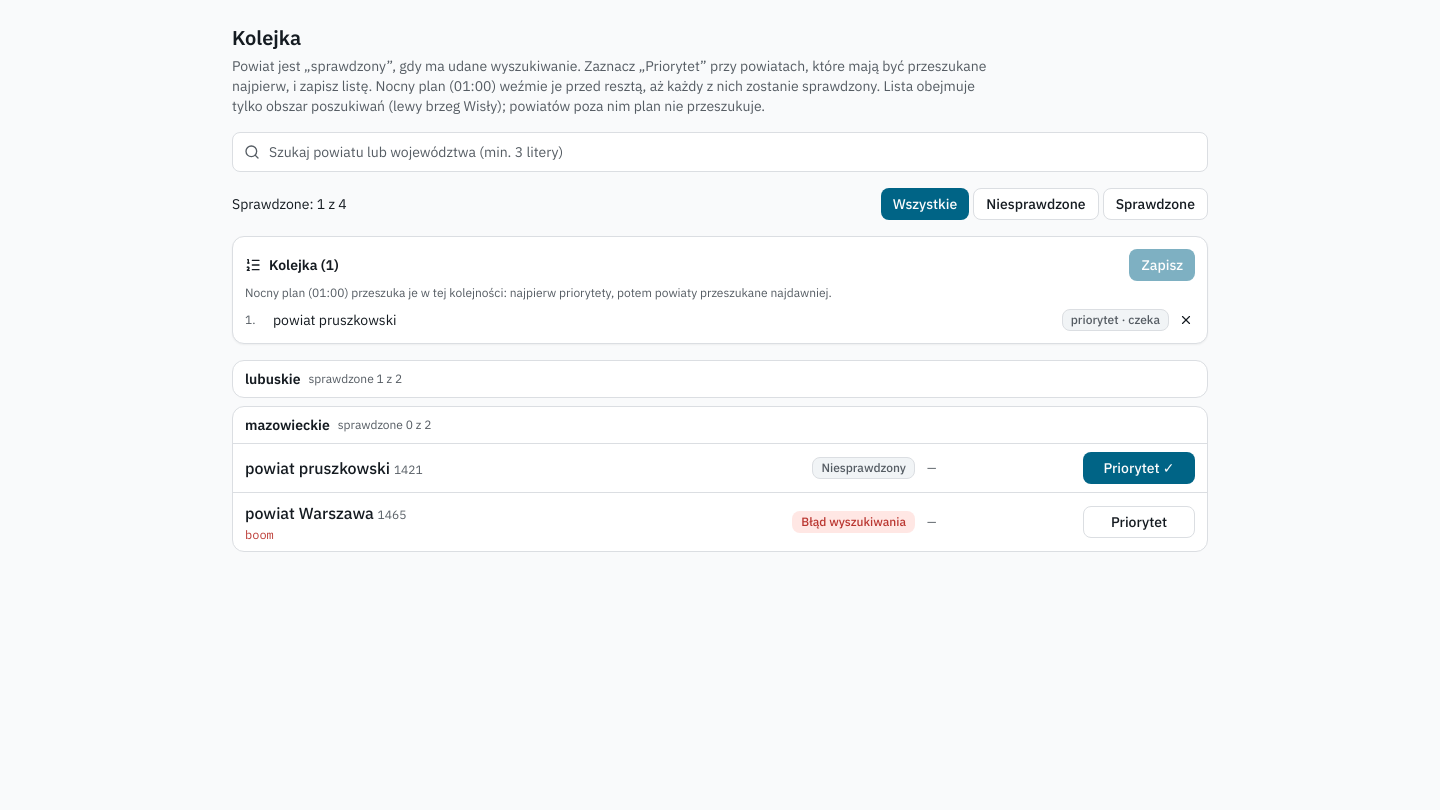
Test: PowiatyPage › stages priority changes, saves the whole list, and can undo
Expected: the text "Sprawdzone: 1 z 4" is shown, [232, 194, 347, 214]
Click the text "lubuskie" at point(273, 379), box [245, 369, 300, 389]
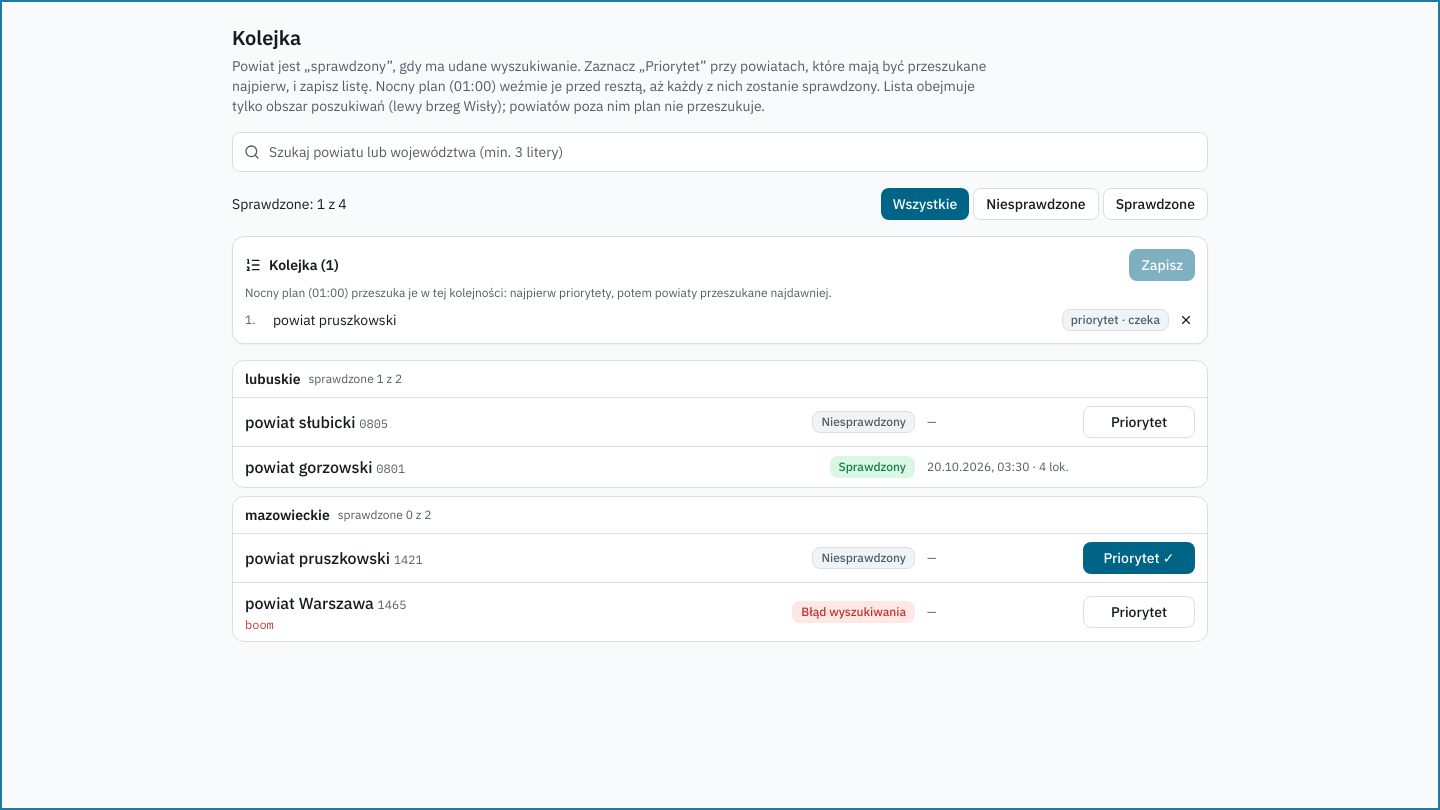
Expected: the button "Zapisz" is disabled, [1129, 249, 1195, 281]
Click the button with aria-label "Priorytet: powiat słubicki" at point(1139, 422), box [1083, 406, 1195, 438]
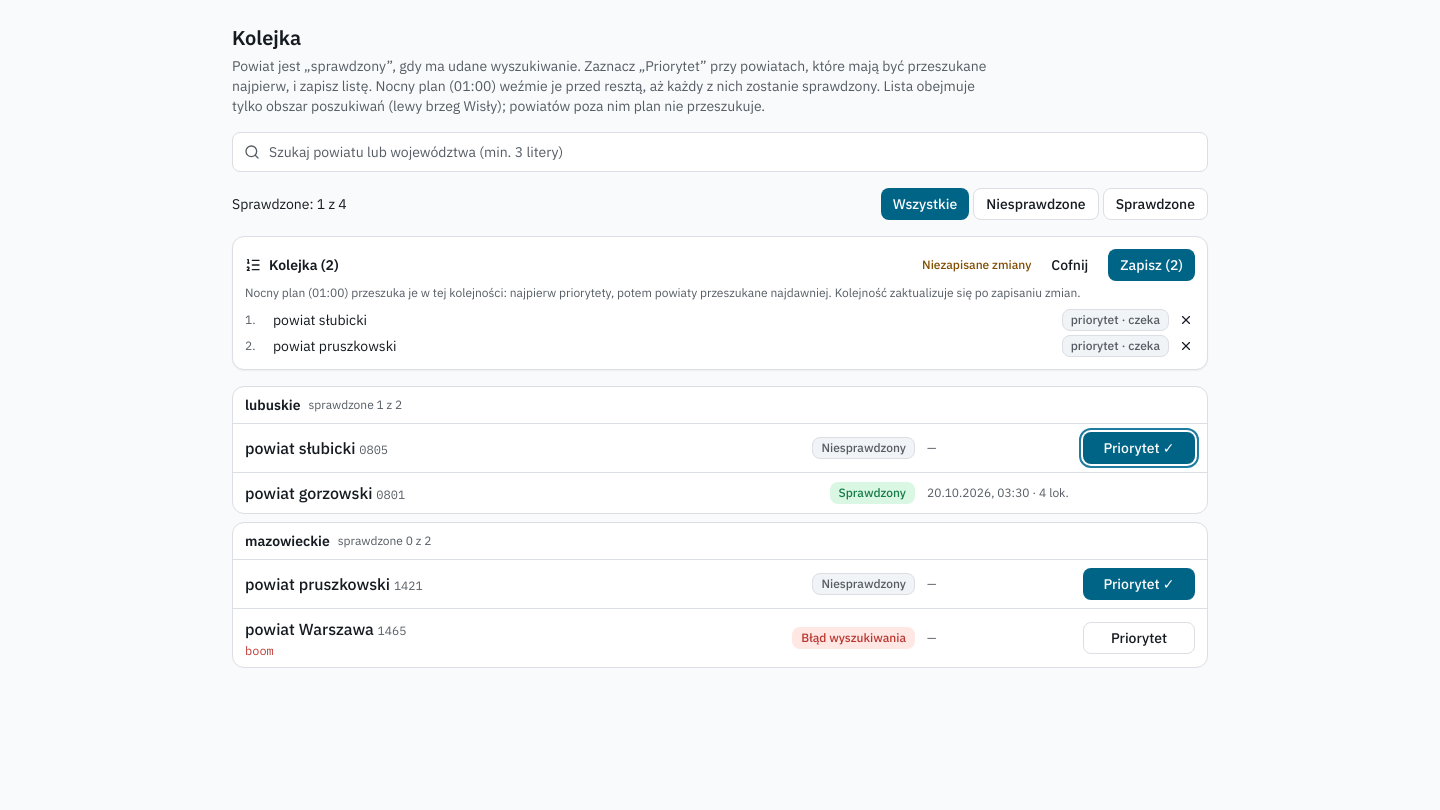
Result: the button "Zapisz (2)" is enabled at [1108, 249, 1195, 281]
Click the button "Cofnij" at point(1070, 265), box [1039, 249, 1100, 281]
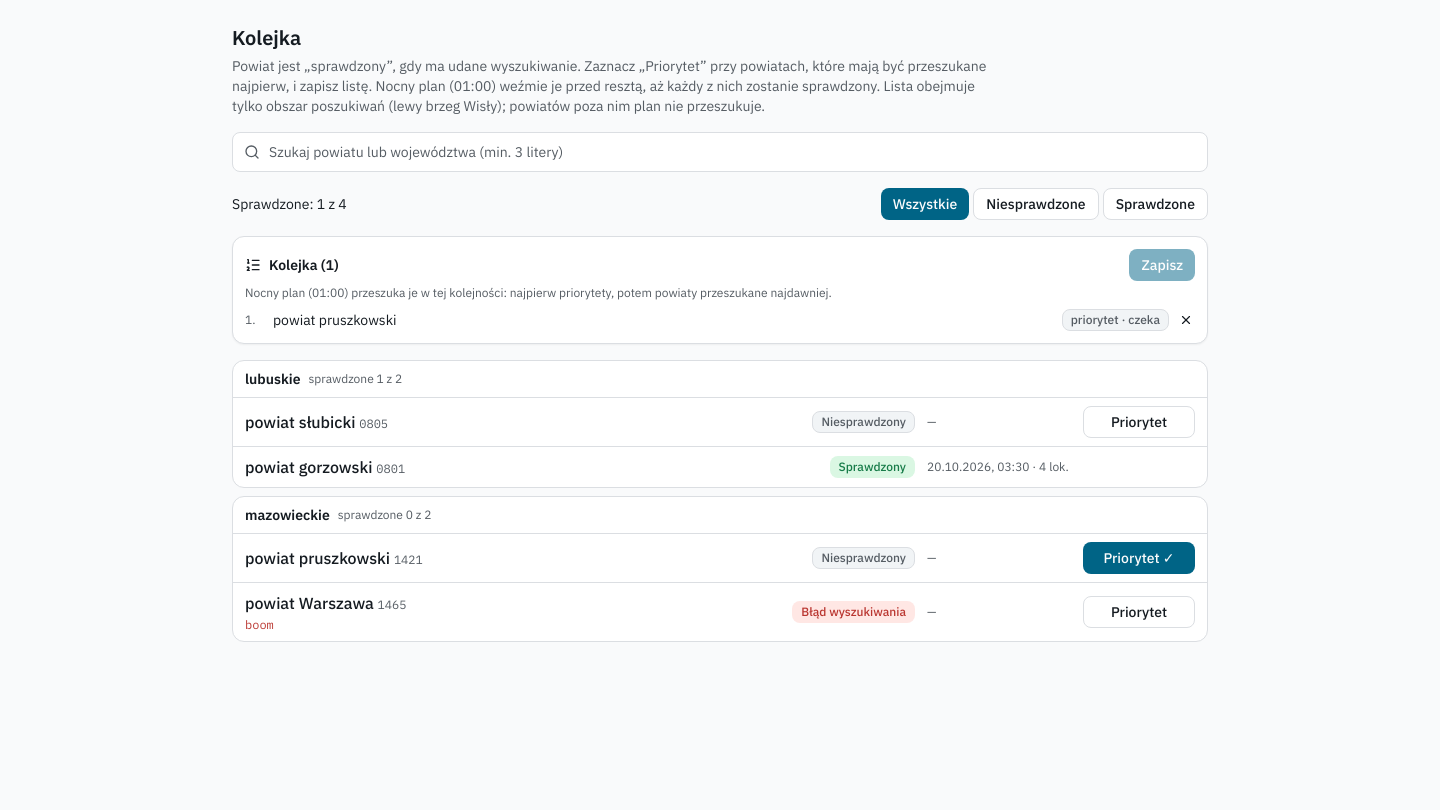
Result: the button "Zapisz" is disabled at [1129, 249, 1195, 281]
Click the button with aria-label "Priorytet: powiat słubicki" at point(1139, 422), box [1083, 406, 1195, 438]
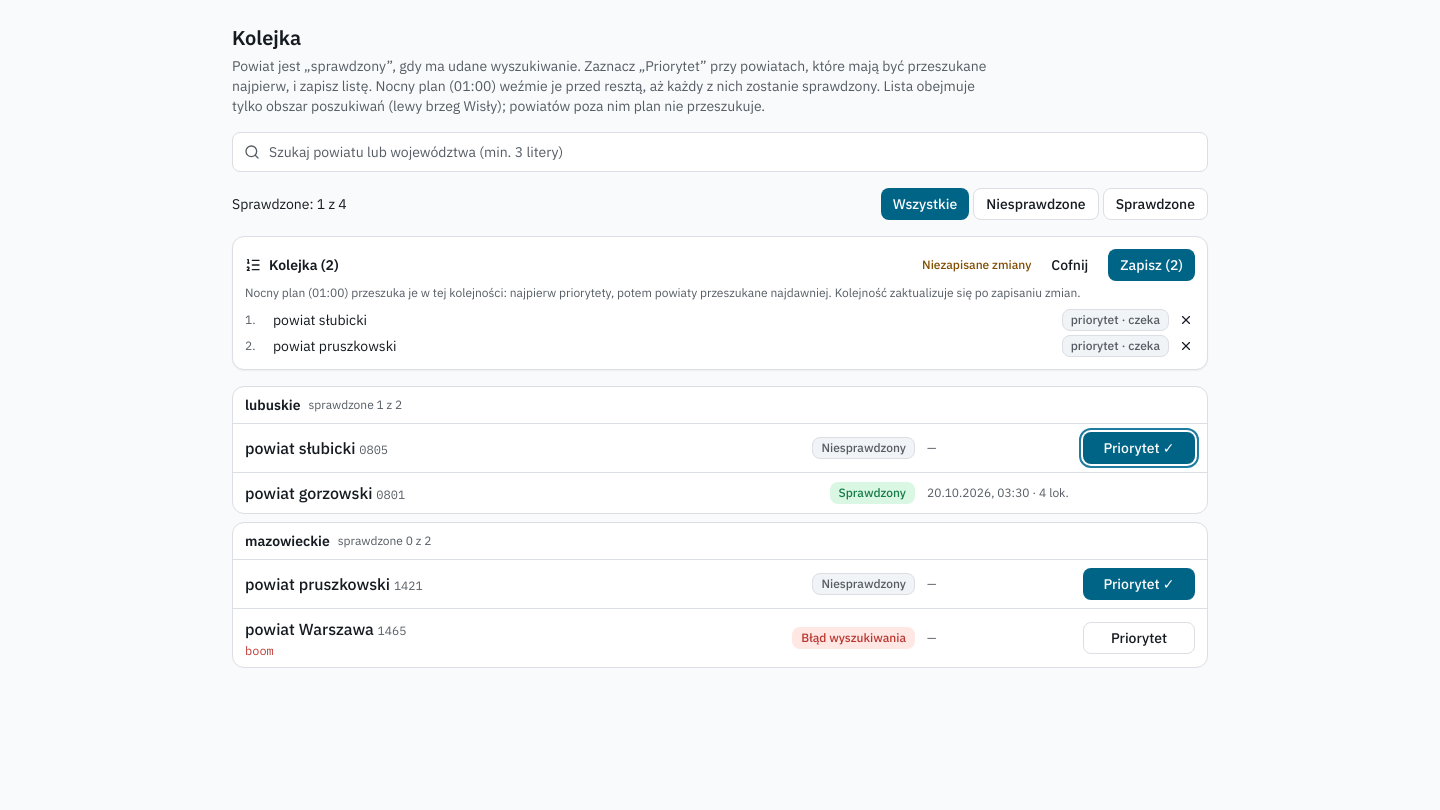
Click the button "Zapisz (2)" at point(1152, 265), box [1108, 249, 1195, 281]
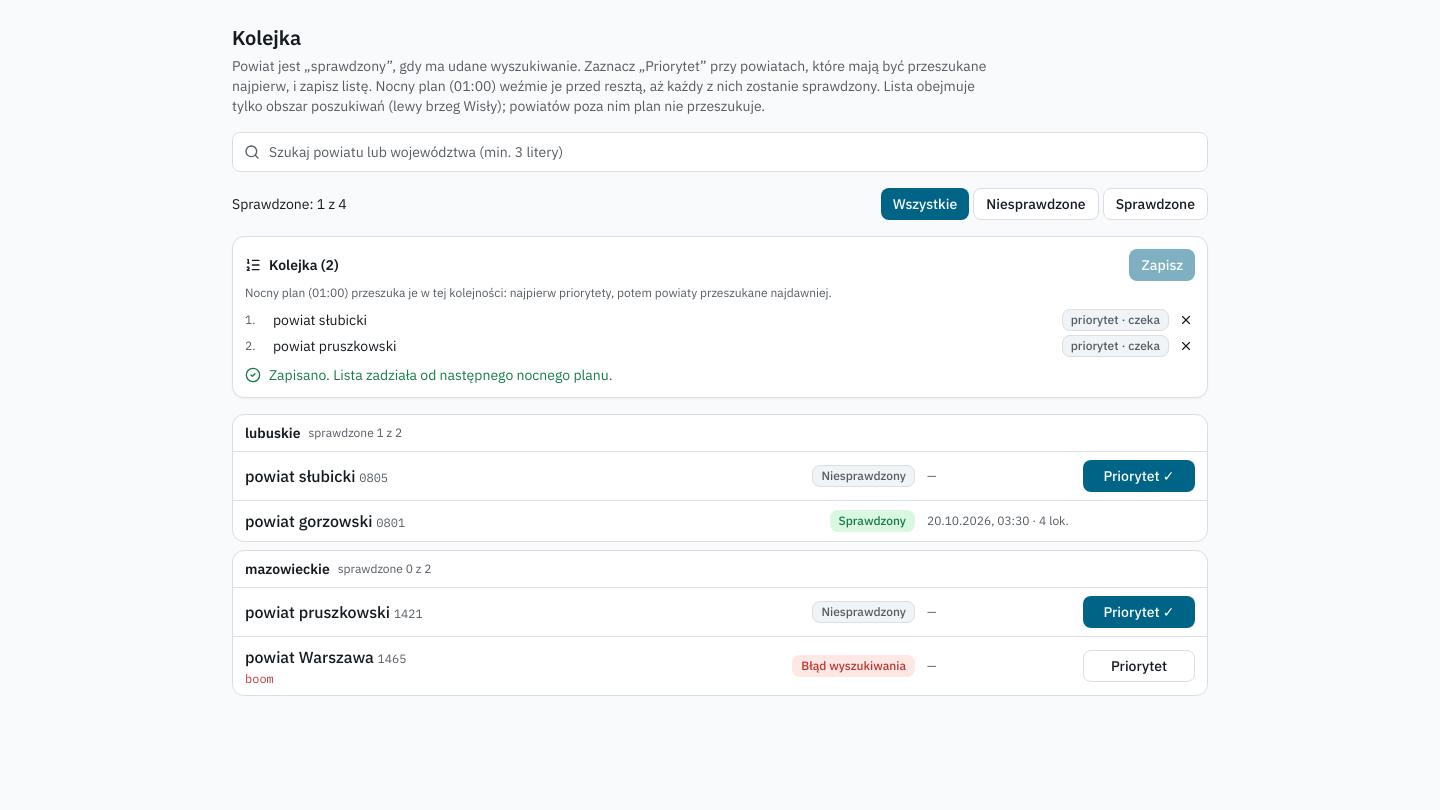
Result: the text "Zapisano. Lista zadziała od następnego nocnego planu." is shown at [245, 366, 613, 384]
